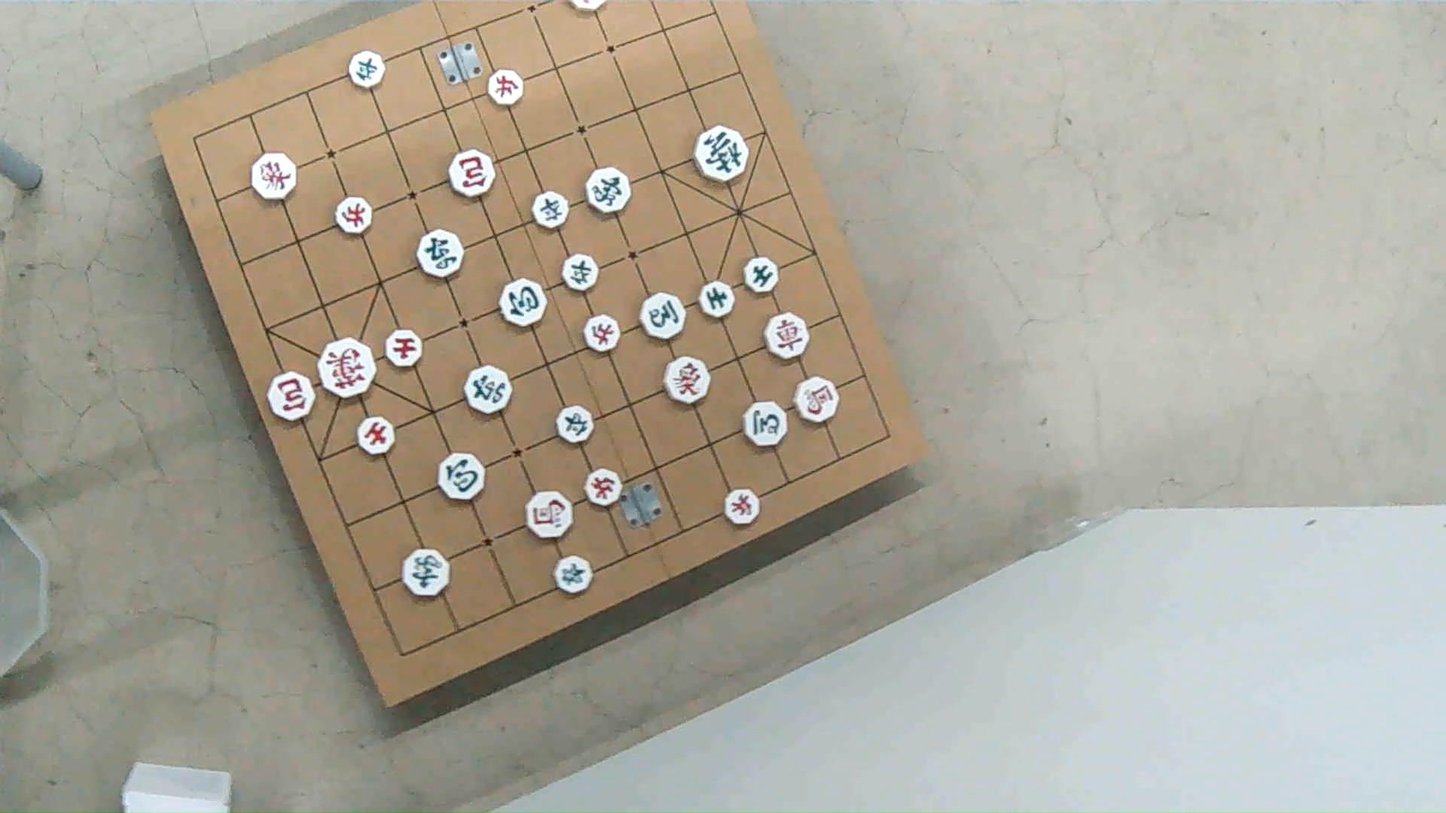cha_green: (464, 367, 511, 416), (419, 229, 465, 277)
cha_red: (765, 313, 809, 359)
jol_green: (554, 557, 591, 595), (557, 408, 595, 444), (534, 192, 570, 230), (347, 50, 383, 87), (564, 254, 599, 291)
jol_red: (585, 467, 624, 505), (334, 199, 371, 236), (584, 316, 619, 353), (487, 70, 523, 105), (725, 489, 760, 525)
ma_green: (639, 292, 685, 340), (744, 402, 787, 445)
ma_red: (526, 492, 572, 537), (794, 376, 837, 422)
po_green: (502, 281, 549, 328), (438, 452, 484, 500)
po_red: (270, 370, 317, 419), (449, 151, 496, 198)
sa_green: (699, 280, 734, 318), (747, 257, 781, 293)
sa_red: (386, 331, 424, 370), (357, 416, 395, 455)
sang_green: (401, 550, 448, 597), (587, 169, 631, 215)
sang_red: (667, 358, 712, 405), (250, 154, 296, 199)
wang_green: (695, 125, 749, 181)
wang_red: (319, 338, 374, 398)
